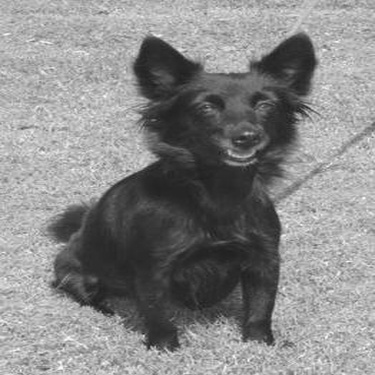dog: (25, 19, 322, 356)
